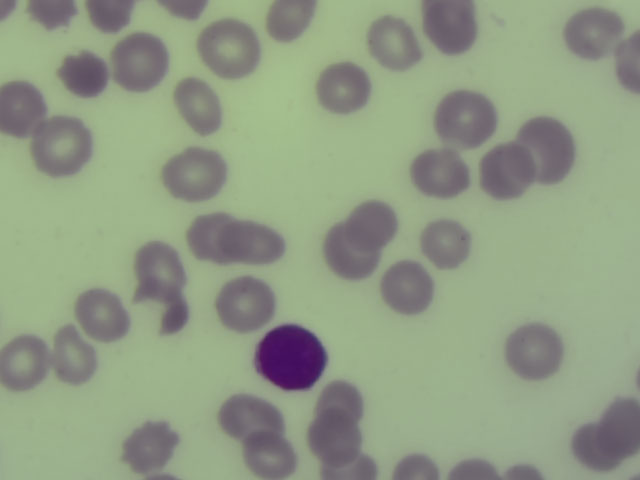RBC: (108, 27, 171, 98), (160, 145, 231, 202), (32, 114, 89, 177), (594, 391, 640, 462), (420, 1, 478, 57), (523, 120, 575, 180), (199, 22, 260, 73), (222, 219, 288, 264), (1, 78, 48, 141), (382, 262, 434, 313), (508, 328, 560, 379), (481, 147, 533, 198), (413, 148, 465, 199), (566, 7, 618, 58), (440, 94, 492, 145), (367, 18, 419, 69), (310, 411, 362, 462), (314, 376, 366, 427), (242, 429, 294, 480), (219, 390, 271, 441), (123, 421, 175, 472), (219, 279, 271, 330), (46, 334, 98, 385), (76, 287, 128, 338), (132, 279, 184, 330), (130, 243, 182, 294), (186, 213, 238, 264), (317, 63, 369, 114), (173, 80, 225, 131), (56, 46, 108, 97), (345, 198, 397, 249), (324, 229, 376, 280), (567, 421, 619, 472), (420, 217, 472, 268), (1, 338, 52, 389), (608, 31, 640, 97), (264, 1, 315, 41), (23, 1, 81, 34), (86, 1, 140, 36), (319, 450, 378, 480), (390, 449, 439, 480), (448, 456, 494, 480)
WBC: (252, 323, 329, 397)
